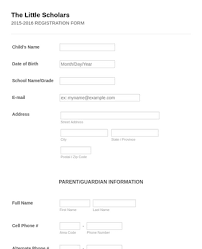TextBox: (60, 110, 160, 122), (59, 39, 130, 54), (61, 75, 129, 89), (60, 144, 104, 158), (60, 194, 92, 212), (86, 221, 128, 233)
